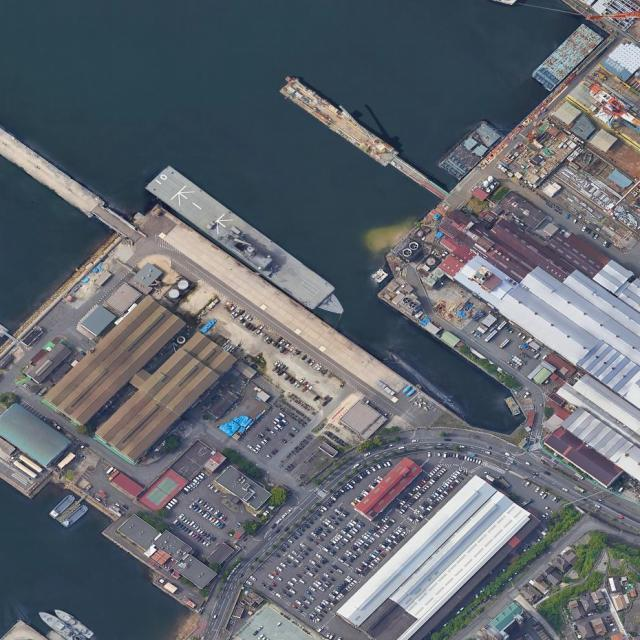Dock: (277, 77, 450, 204)
Landing: (145, 160, 354, 326)
Submarine: (389, 351, 466, 417)
